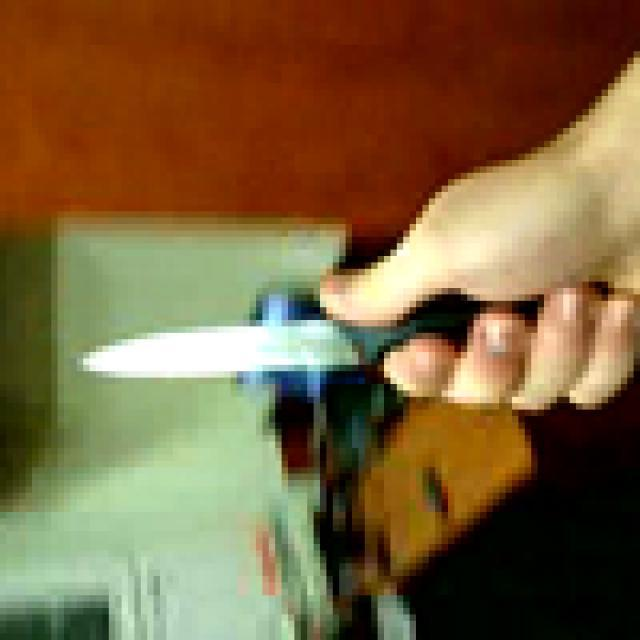Knife: (83, 282, 614, 409)
